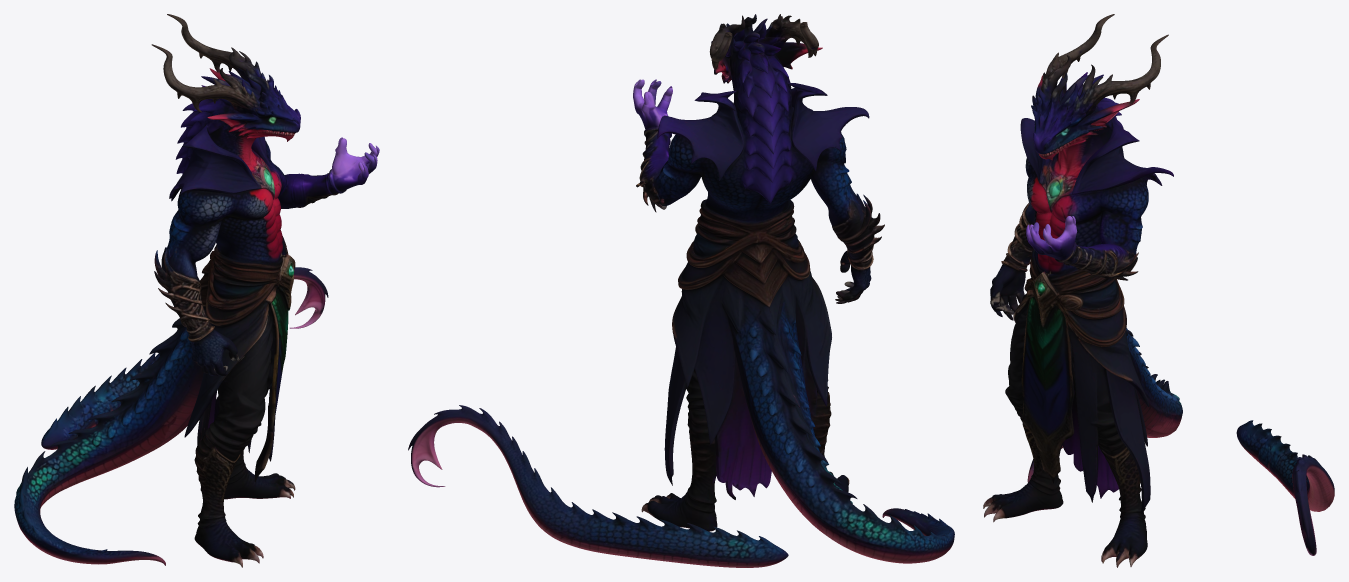
Rendered from dragonborn_warlock_full_male_01.glb.
3 renders of one model, left to right at view 1: azimuth 30°, elevation 25°; view 2: azimuth 150°, elevation 25°; view 3: azimuth 270°, elevation 25°, orthographic. The views are drawn at different scales.
Visible parts, largest first — view 1: material; view 2: material; view 3: material.
Part boxes in pixels (bbox=[...]): material: bbox=[14, 14, 379, 567]; material: bbox=[408, 14, 954, 567]; material: bbox=[983, 14, 1334, 567].
Bounding box in the file's own units: 0.8102 × 0.9315 × 0.6137.
1 material, 1 textured.
